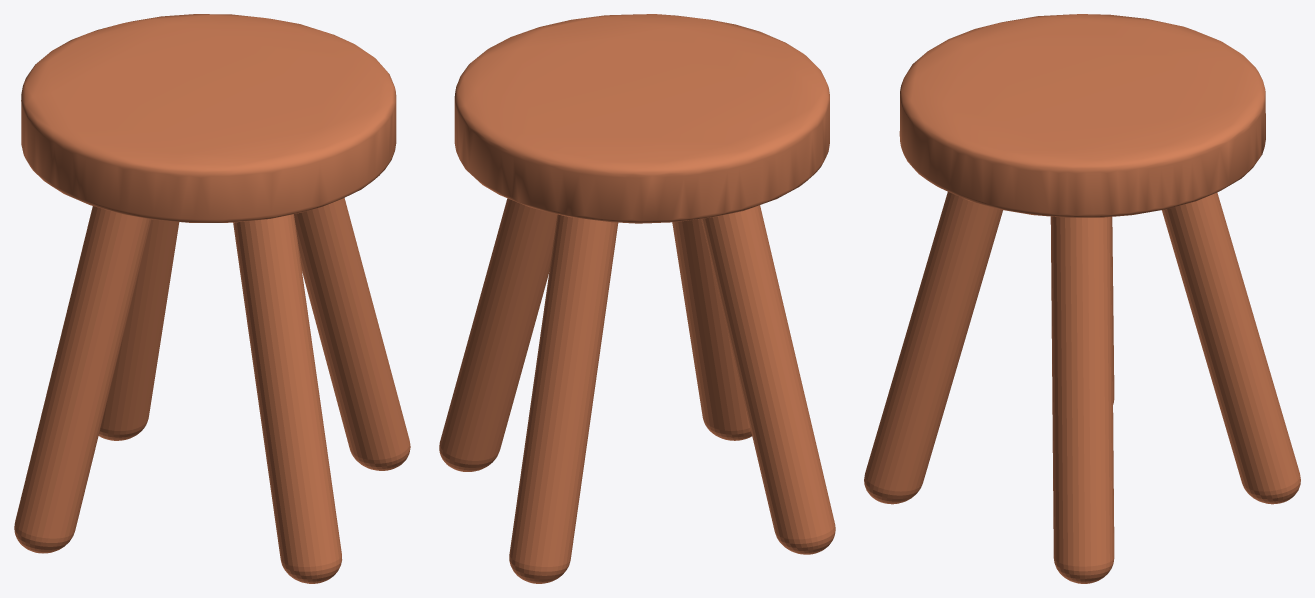
Rendered from stool.fbx.
The picture shows the model from 3 angles, left to right: view 1: azimuth 30°, elevation 25°; view 2: azimuth 150°, elevation 25°; view 3: azimuth 270°, elevation 25°; orthographic projection. The views are drawn at different scales.
Parts seen in each view (by area): view 1: Chair; view 2: Chair; view 3: Chair.
Boxes of the visible parts, box(x1,y1,x2,y2) form: Chair: box(14, 14, 410, 583); Chair: box(439, 14, 835, 583); Chair: box(864, 14, 1300, 583).
Size of the model in its own units: 41.16 by 42.79 by 41.16.
